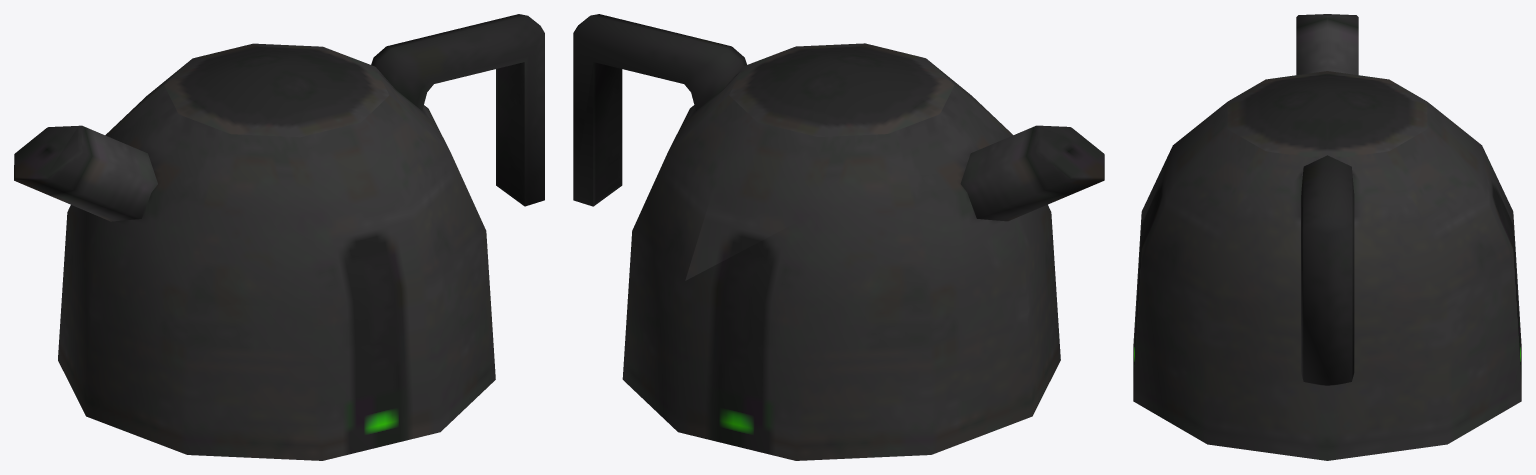
The model's file is Kettle01.FBX.
3 renders of one model, left to right at view 1: azimuth 30°, elevation 25°; view 2: azimuth 150°, elevation 25°; view 3: azimuth 270°, elevation 25°, orthographic. The views are drawn at different scales.
Parts seen in each view (by area): view 1: Kettle01; view 2: Kettle01; view 3: Kettle01.
Part boxes in pixels (x1,y1,x2,y2): Kettle01: [14, 14, 544, 460]; Kettle01: [573, 14, 1104, 460]; Kettle01: [1133, 14, 1521, 460].
Size of the model in its own units: 0.3619 by 0.2004 by 0.2494.
